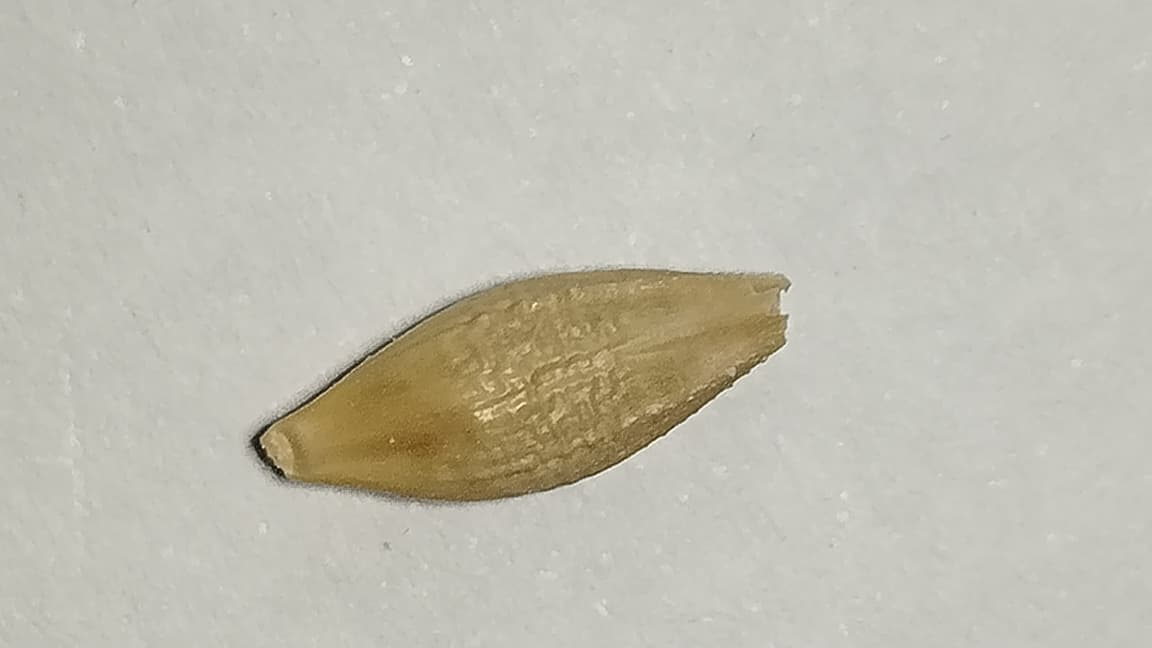healthy-50-40: (257, 269, 788, 499)
